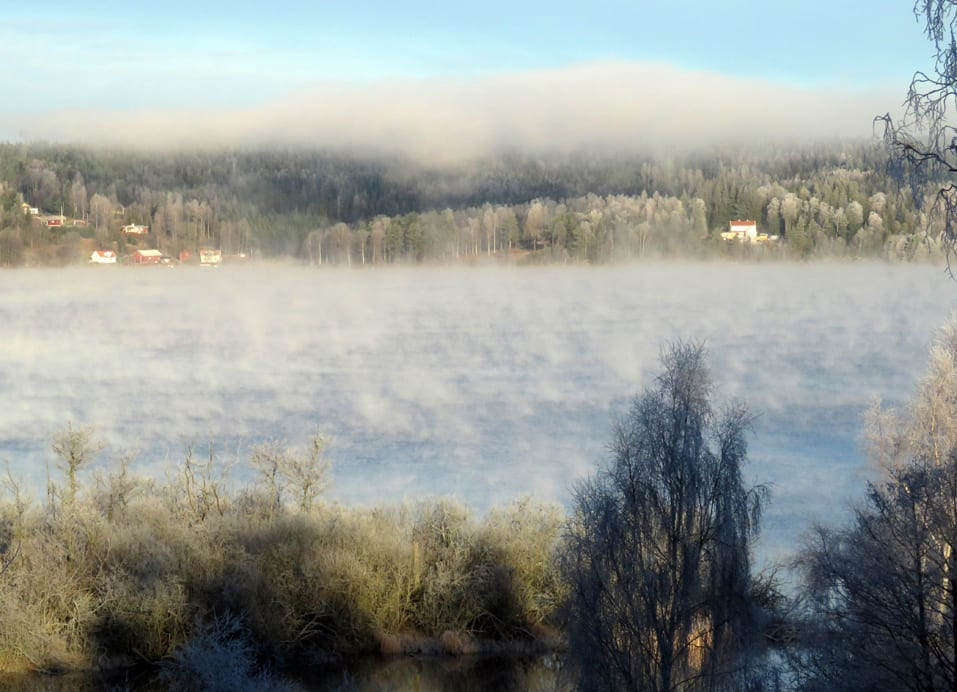Stratus: (11, 271, 938, 422), (10, 24, 953, 165)
